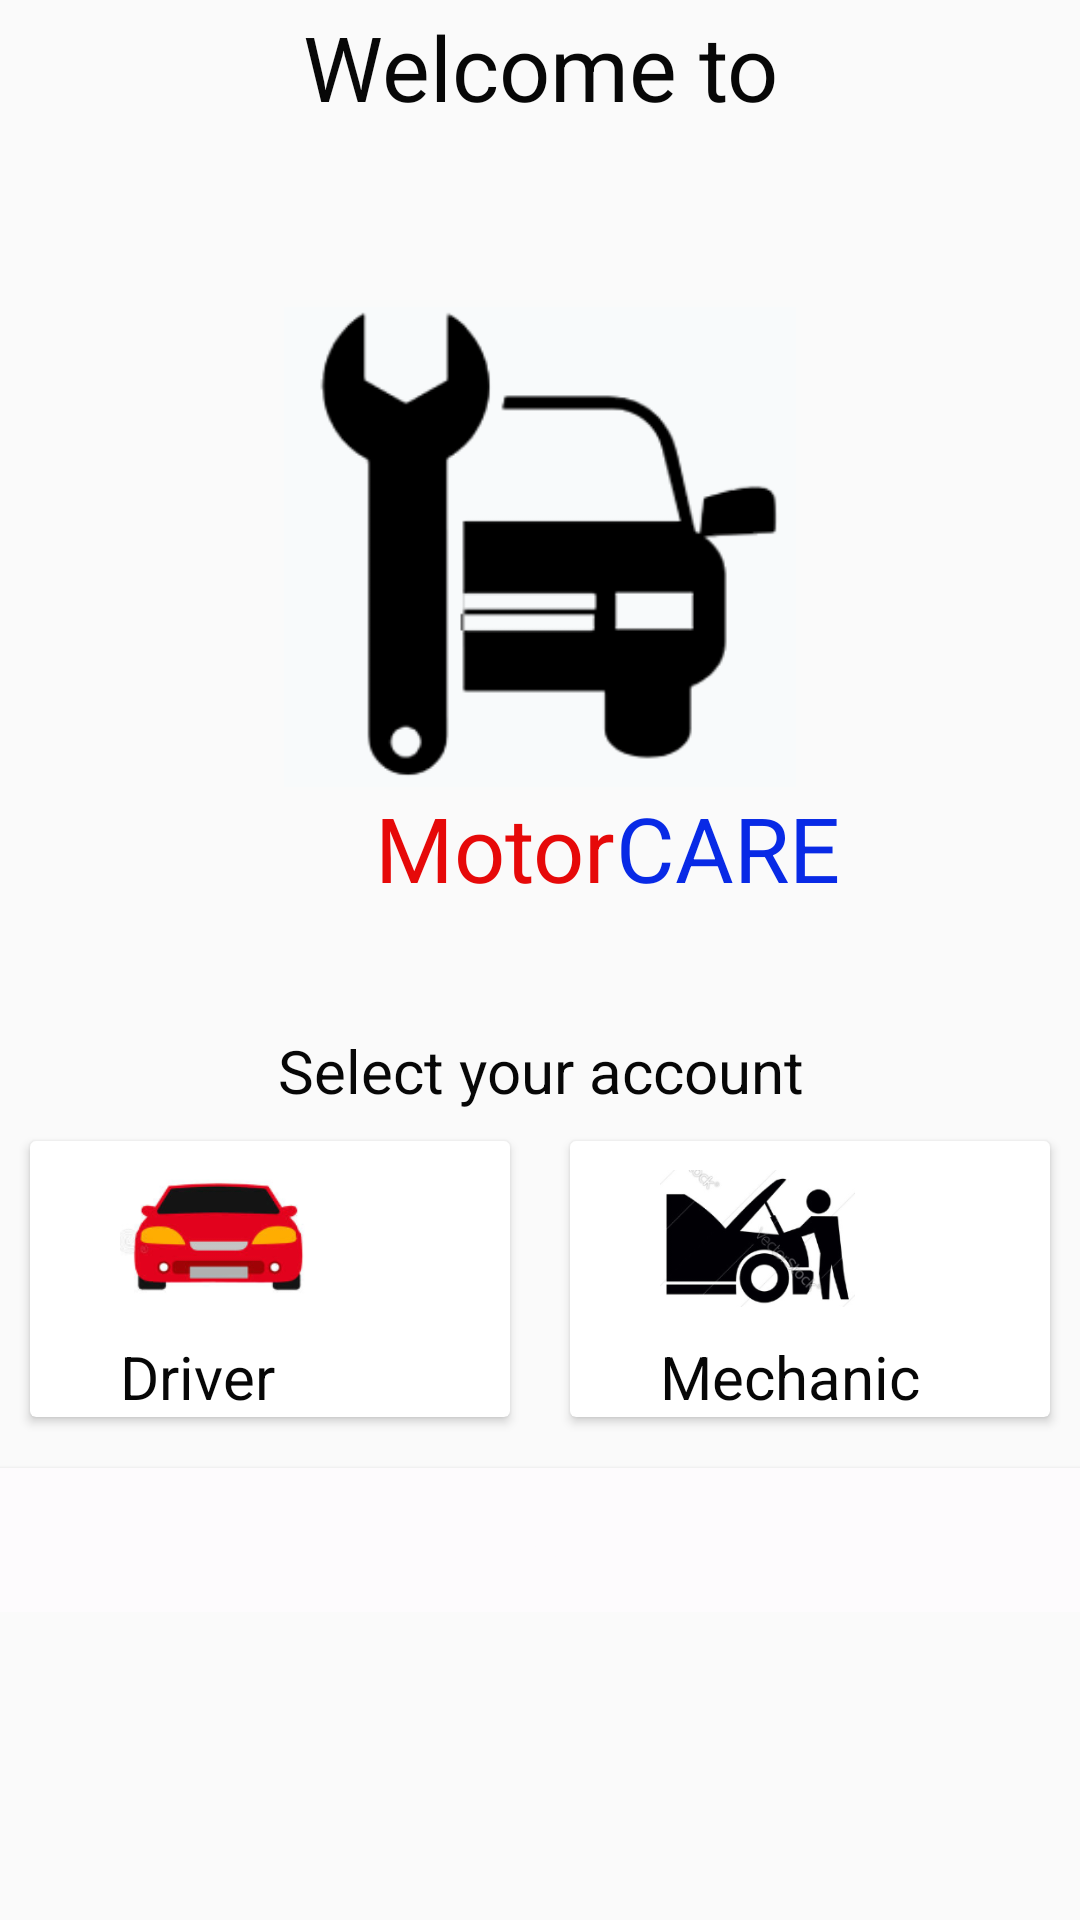

Where to tap for icons on this 1080px x 1920px app screen, as [x,y]:
repair: [757,1236]
